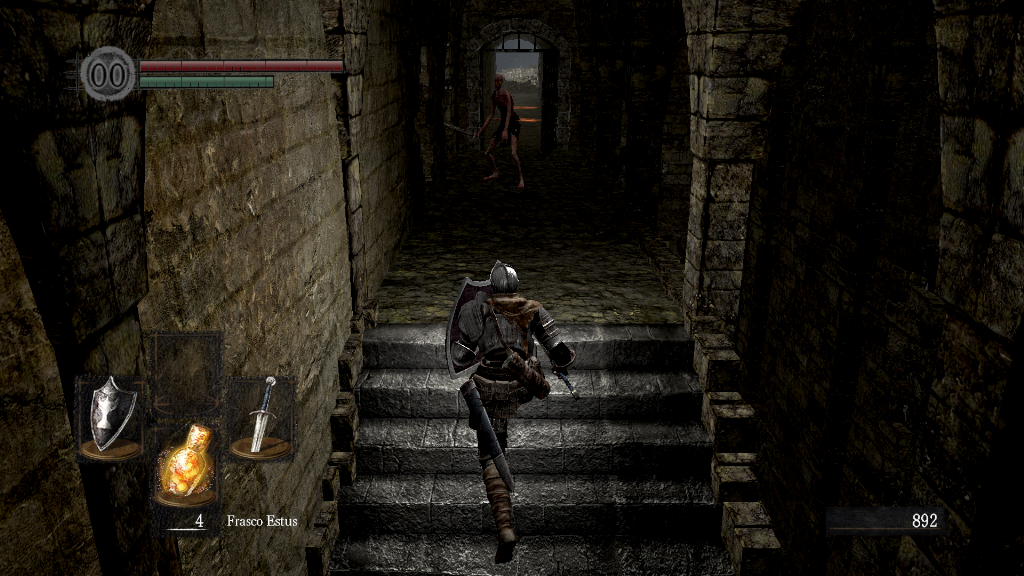health: (138, 58, 343, 71)
hollow: (475, 74, 528, 192)
humanity: (80, 45, 136, 102)
player: (444, 259, 583, 565)
souls: (825, 506, 945, 536)
stamina: (138, 74, 274, 88)
